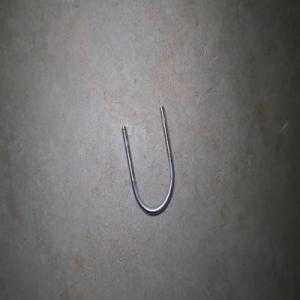ClampPart: (120, 104, 175, 217)
